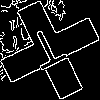T: (25, 25, 73, 79)
